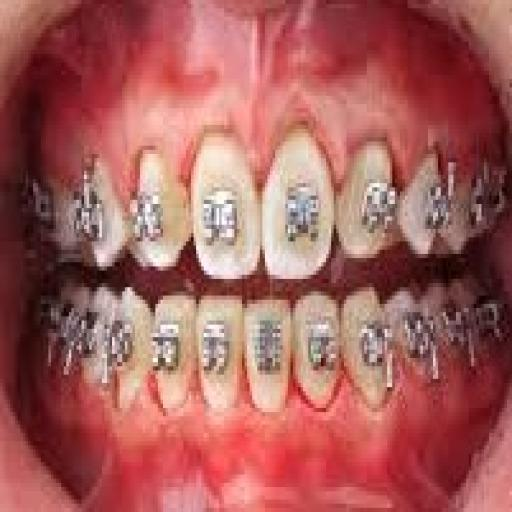correct_brace: (195, 177, 243, 257), (278, 169, 322, 253), (357, 172, 397, 244), (250, 307, 284, 383), (130, 184, 164, 254), (303, 324, 339, 380), (202, 313, 229, 387), (79, 188, 112, 247), (358, 315, 391, 369), (154, 315, 181, 379), (421, 173, 448, 233), (110, 318, 134, 376)
incorrect_brace: (333, 124, 395, 267), (131, 132, 182, 279), (290, 289, 338, 419), (152, 288, 195, 414)
